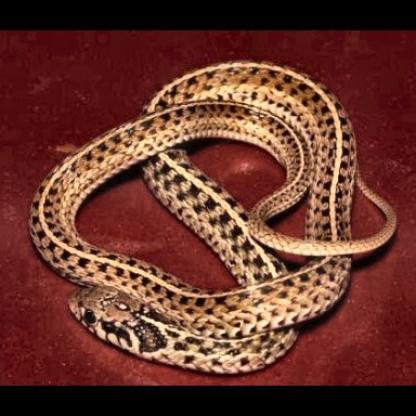Snake: (15, 62, 408, 369)
